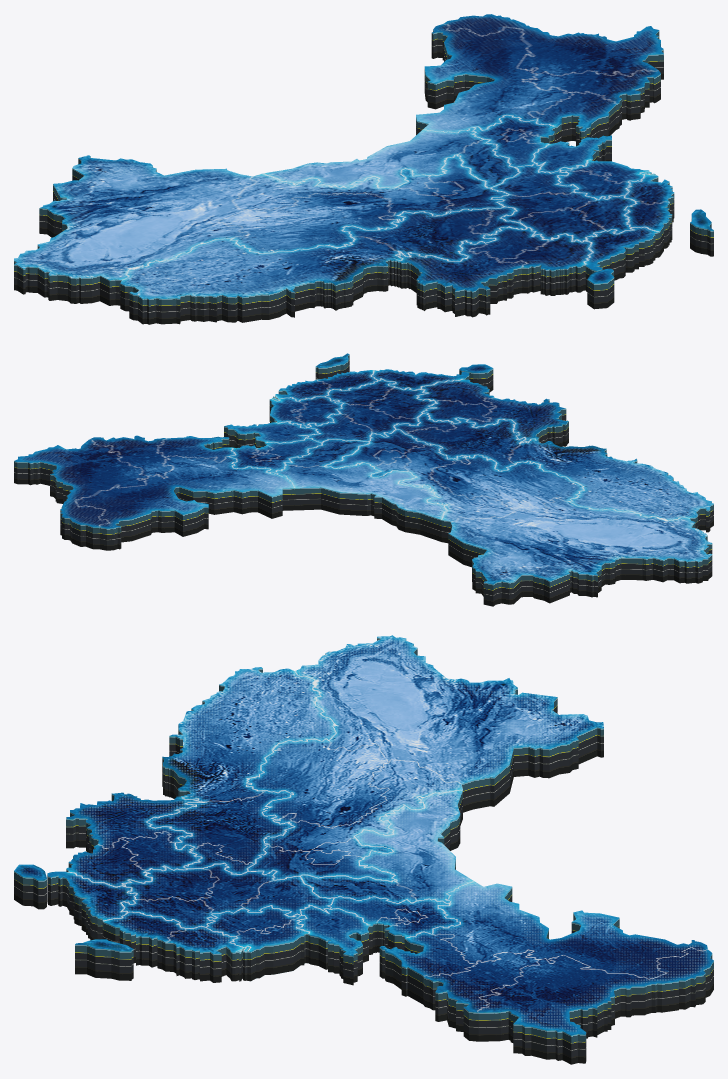
File: china.gltf
3 views of the same model, one above another, from view 1: azimuth 30°, elevation 25°; view 2: azimuth 150°, elevation 25°; view 3: azimuth 270°, elevation 25° (orthographic). The views are drawn at different scales.
Visible parts, largest first — view 1: xibei, dongbei, chuanyu, xinan, beibu, zhongbu, dawanqu, changsanjiao, jingjinji, suwwan, taiwan; view 2: xibei, dongbei, chuanyu, beibu, xinan, zhongbu, jingjinji, suwwan, dawanqu, changsanjiao, taiwan; view 3: xibei, dongbei, chuanyu, beibu, xinan, zhongbu, changsanjiao, dawanqu, suwwan, jingjinji, taiwan.
Boxes of the visible parts, box(x1,y1,x2,y2) form: xibei: box(14, 154, 508, 305); dongbei: box(416, 14, 663, 146); chuanyu: box(120, 207, 526, 324); xinan: box(396, 227, 592, 317); beibu: box(263, 128, 611, 187); zhongbu: box(491, 163, 636, 242); dawanqu: box(584, 227, 658, 309); changsanjiao: box(624, 172, 674, 257); jingjinji: box(473, 115, 556, 167); suwwan: box(556, 160, 649, 199); taiwan: box(690, 209, 713, 256); xibei: box(325, 429, 712, 606); dongbei: box(14, 435, 294, 550); chuanyu: box(394, 413, 713, 532); beibu: box(224, 421, 447, 541); xinan: box(417, 379, 568, 446); zhongbu: box(302, 378, 437, 442); jingjinji: box(229, 438, 322, 472); suwwan: box(269, 396, 343, 427); dawanqu: box(371, 364, 493, 392); changsanjiao: box(271, 370, 377, 401); taiwan: box(315, 353, 349, 379); xibei: box(246, 635, 603, 881); dongbei: box(379, 881, 713, 1064); chuanyu: box(146, 667, 335, 874); beibu: box(296, 789, 473, 985); xinan: box(66, 792, 203, 886); zhongbu: box(120, 863, 333, 928); changsanjiao: box(102, 912, 249, 982); dawanqu: box(14, 864, 136, 940); suwwan: box(206, 905, 308, 981); jingjinji: box(328, 896, 460, 954); taiwan: box(75, 939, 133, 980).
Bounding box in the file's own units: 28.97 × 0.9957 × 21.41.
Materials: 2 (2 with a texture image).
